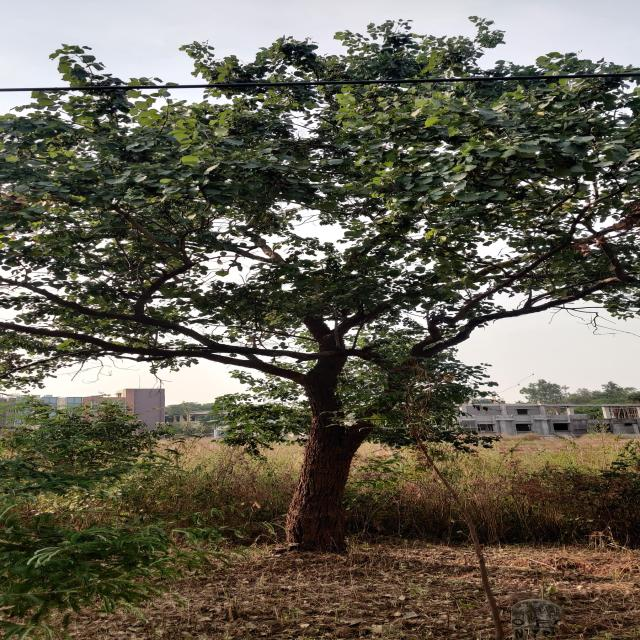Devakanchan tree: (34, 46, 597, 479)
